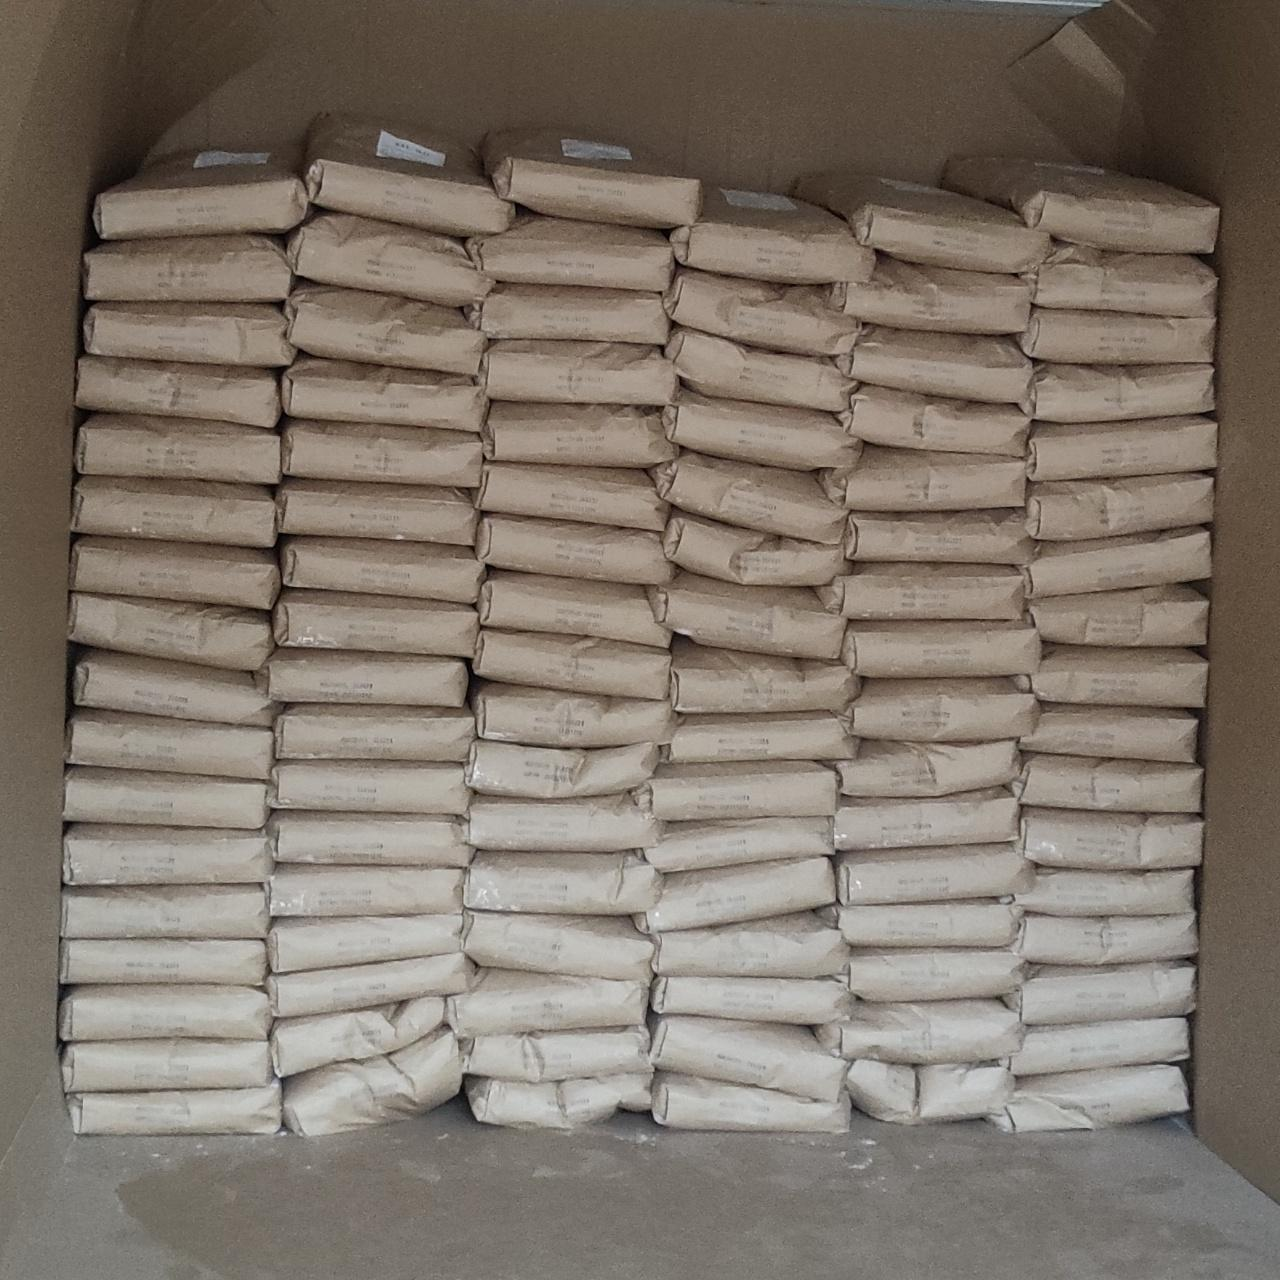sack: (944, 159, 1218, 252), (304, 114, 510, 234), (790, 173, 1046, 270), (481, 128, 696, 226), (96, 147, 308, 238), (672, 186, 870, 282), (284, 1028, 462, 1133), (288, 284, 482, 374), (290, 215, 488, 302), (652, 452, 844, 542), (666, 270, 855, 354), (651, 572, 842, 654), (830, 256, 1030, 332), (470, 215, 670, 290), (651, 1016, 844, 1094), (74, 651, 272, 726), (663, 392, 858, 468), (70, 594, 270, 668), (670, 328, 850, 410), (284, 358, 484, 430), (72, 538, 278, 606), (271, 998, 445, 1077), (481, 572, 666, 646), (266, 952, 474, 1017), (79, 414, 278, 482), (79, 356, 278, 424), (640, 858, 832, 928), (448, 969, 647, 1036), (72, 476, 274, 542), (68, 710, 270, 776), (474, 629, 668, 697), (846, 326, 1028, 399), (86, 236, 290, 300), (1022, 241, 1214, 309), (670, 640, 856, 710), (284, 420, 478, 486), (275, 590, 476, 654), (663, 512, 846, 583), (478, 516, 670, 583), (86, 302, 290, 365), (478, 462, 663, 530), (1026, 527, 1210, 595), (844, 386, 1028, 454), (822, 445, 1022, 508), (482, 340, 674, 404), (282, 538, 482, 600), (990, 1065, 1186, 1128), (467, 912, 651, 978), (66, 768, 266, 828), (278, 481, 474, 542), (821, 1002, 1020, 1062), (1028, 474, 1212, 538), (474, 682, 672, 742), (484, 404, 674, 467), (468, 284, 668, 342), (656, 914, 846, 974), (64, 826, 268, 881), (1008, 962, 1194, 1022), (467, 852, 660, 910), (640, 762, 836, 818), (652, 1076, 847, 1132), (850, 680, 1034, 740), (1030, 418, 1214, 478), (263, 648, 467, 702), (821, 564, 1024, 618), (844, 620, 1039, 676), (62, 986, 270, 1039), (838, 846, 1030, 903), (824, 948, 1024, 1002), (468, 740, 656, 796), (1020, 308, 1214, 362), (1014, 754, 1200, 810), (1022, 810, 1200, 869), (64, 1040, 270, 1090), (1026, 365, 1212, 420), (275, 706, 470, 758), (468, 796, 658, 850), (847, 1060, 1012, 1122), (274, 760, 467, 812), (1030, 586, 1206, 644), (1030, 648, 1206, 706), (836, 790, 1014, 846), (70, 1084, 278, 1132), (270, 914, 459, 966), (272, 812, 470, 862), (64, 886, 266, 934), (468, 1074, 651, 1126), (847, 510, 1030, 561), (842, 740, 1016, 794), (1012, 1020, 1186, 1074), (651, 818, 830, 870), (268, 866, 459, 914), (468, 1028, 648, 1078), (1022, 706, 1194, 758), (666, 714, 855, 762), (654, 976, 847, 1022), (1017, 914, 1196, 964), (64, 940, 264, 982), (1017, 870, 1190, 914), (836, 903, 1016, 942)
